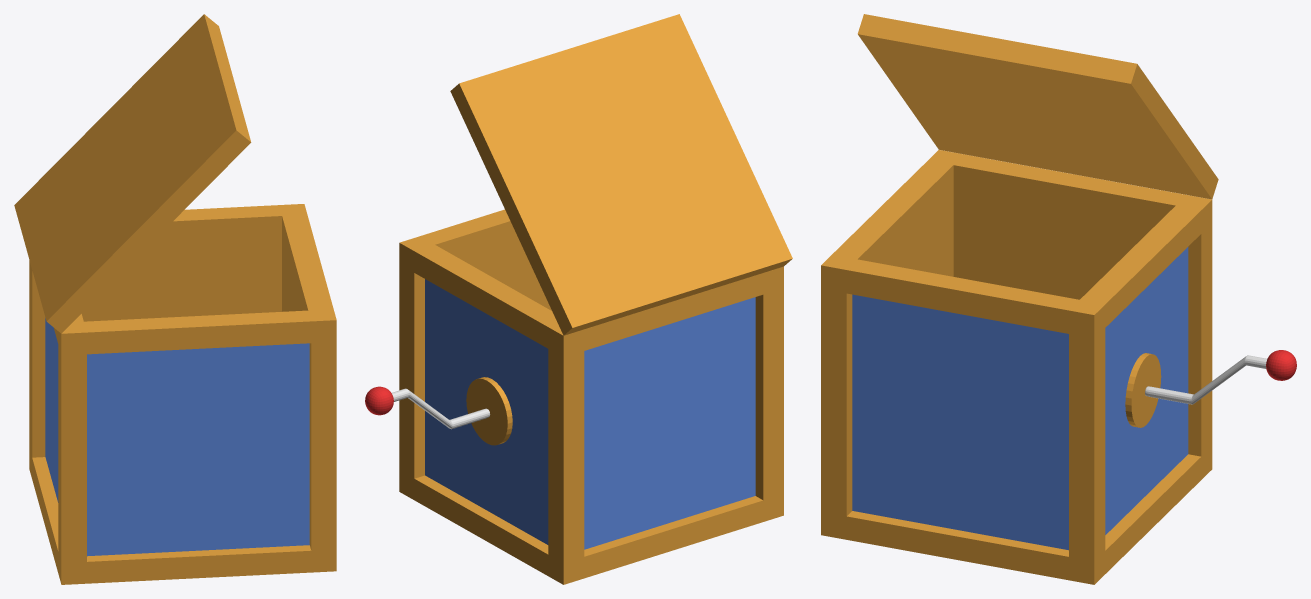
The model's file is jackbox.fbx.
3 views of the same model, side by side, from view 1: azimuth 30°, elevation 25°; view 2: azimuth 150°, elevation 25°; view 3: azimuth 270°, elevation 25° (orthographic). The views are drawn at different scales.
Parts seen in each view (by area): view 1: jackbox, jackbox-top; view 2: jackbox, jackbox-top, jackbox-Cylinder, jackbox-handle, jackbox-handle-ball; view 3: jackbox, jackbox-top, jackbox-Cylinder, jackbox-handle, jackbox-handle-ball.
Boxes of the visible parts, bbox=[...] form: jackbox: bbox=[29, 204, 336, 584]; jackbox-top: bbox=[14, 14, 251, 333]; jackbox: bbox=[399, 209, 783, 584]; jackbox-top: bbox=[450, 14, 792, 335]; jackbox-Cylinder: bbox=[466, 377, 512, 445]; jackbox-handle: bbox=[391, 388, 490, 429]; jackbox-handle-ball: bbox=[365, 386, 393, 415]; jackbox: bbox=[821, 150, 1212, 584]; jackbox-top: bbox=[857, 14, 1218, 199]; jackbox-Cylinder: bbox=[1125, 353, 1161, 427]; jackbox-handle: bbox=[1145, 355, 1267, 404]; jackbox-handle-ball: bbox=[1266, 350, 1296, 380].
Bounding box in the file's own units: 17.33 × 22.56 × 20.31.
